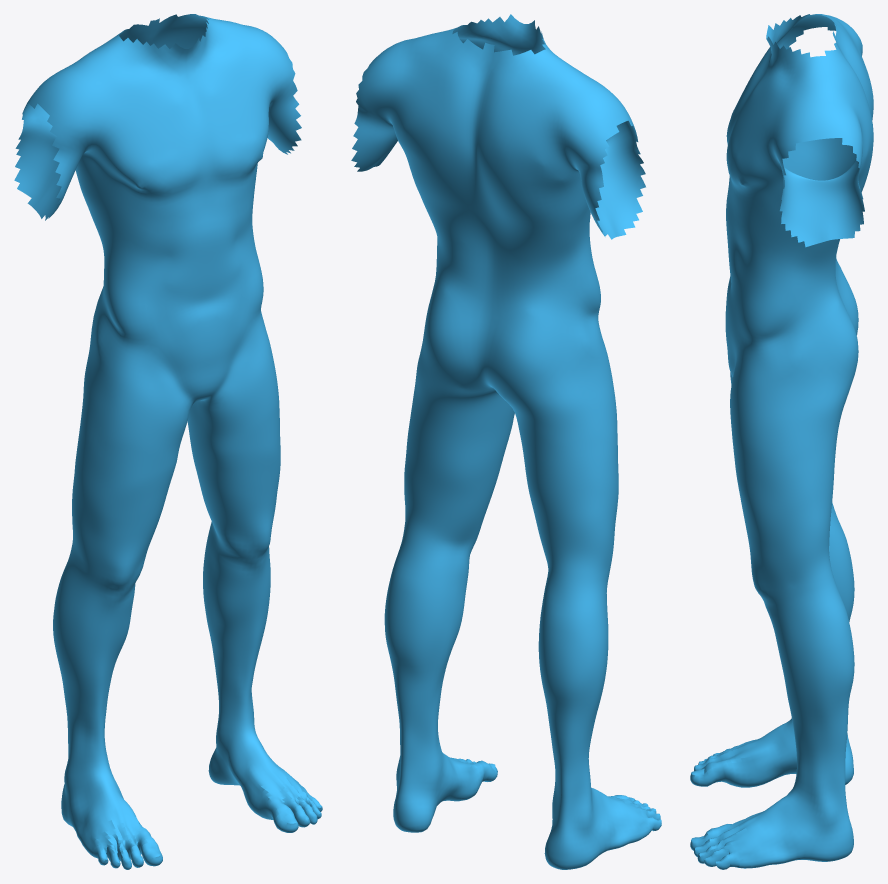
The model's file is body.obj.
The picture shows the model from 3 angles, left to right: view 1: azimuth 30°, elevation 25°; view 2: azimuth 150°, elevation 25°; view 3: azimuth 270°, elevation 25°; orthographic projection. The views are drawn at different scales.
Visible parts, largest first — view 1: 000_Male_base_-_piece; view 2: 000_Male_base_-_piece; view 3: 000_Male_base_-_piece.
Boxes of the visible parts, x1,y1,x2,y2 form: 000_Male_base_-_piece: (14,14,322,869); 000_Male_base_-_piece: (351,14,661,869); 000_Male_base_-_piece: (690,14,873,869).
Bounding box in the file's own units: 5.9 × 17.89 × 3.77.
